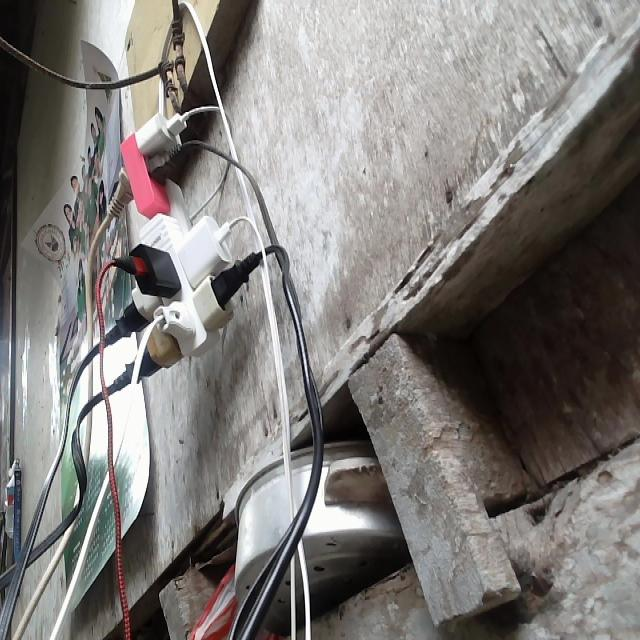-: (104, 102, 259, 394)
